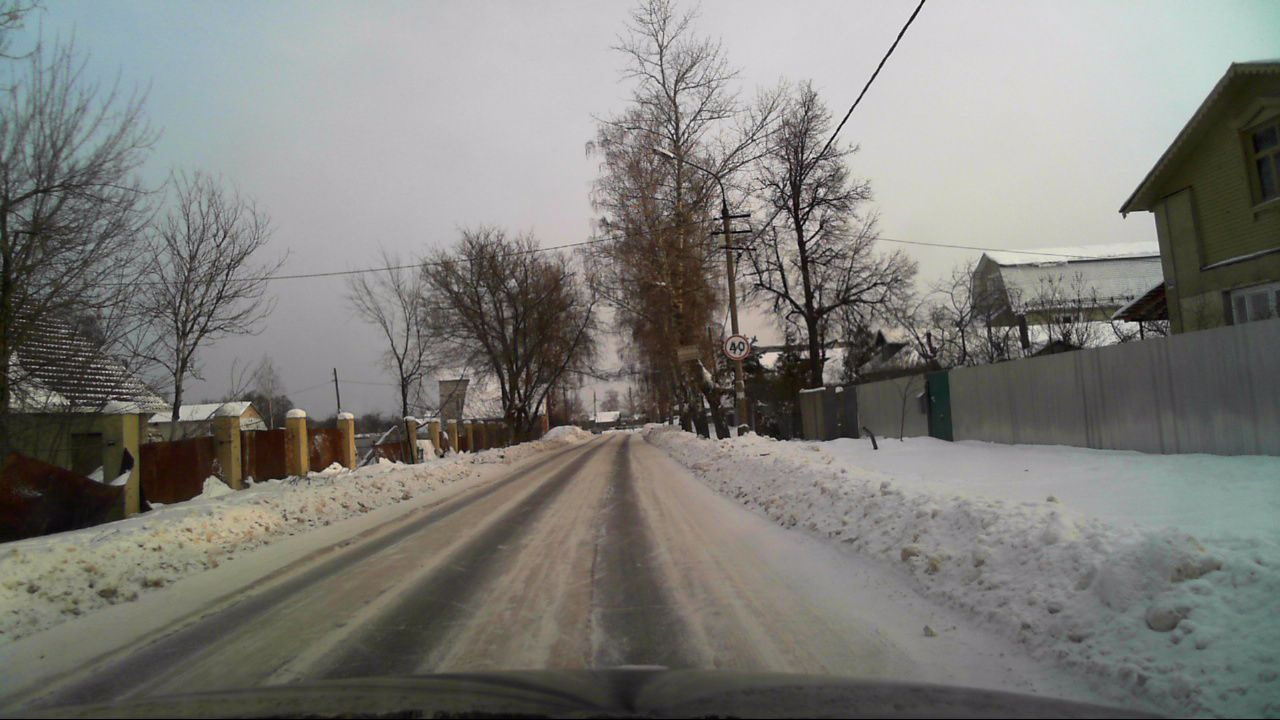speed_warning_40: (723, 334, 749, 360)
